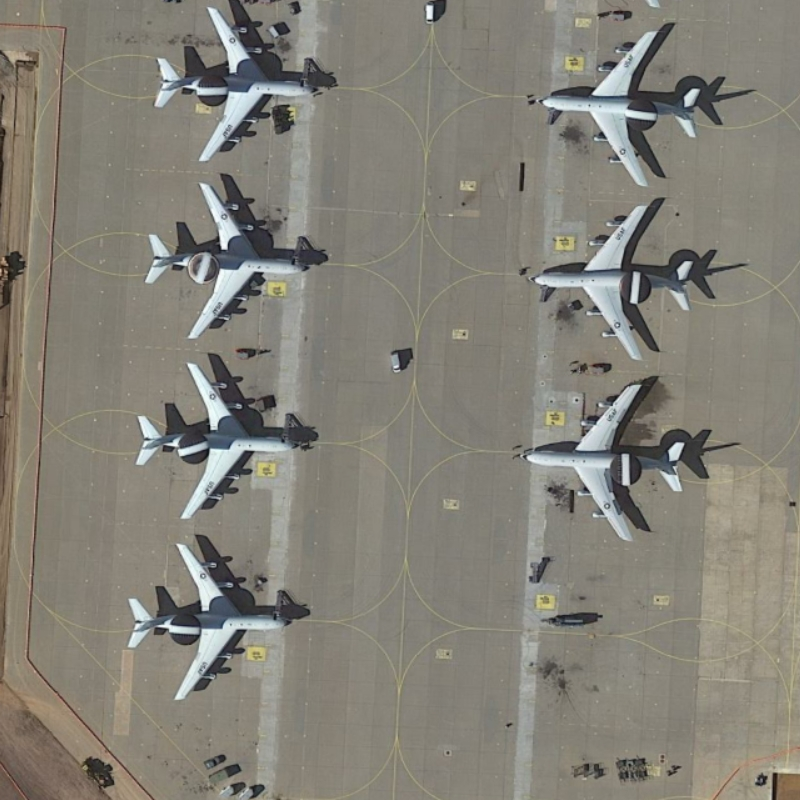A7: (129, 170, 326, 345), (515, 372, 708, 550), (126, 351, 315, 530), (520, 196, 713, 371), (119, 535, 305, 710), (531, 23, 718, 189), (148, 5, 327, 164)
